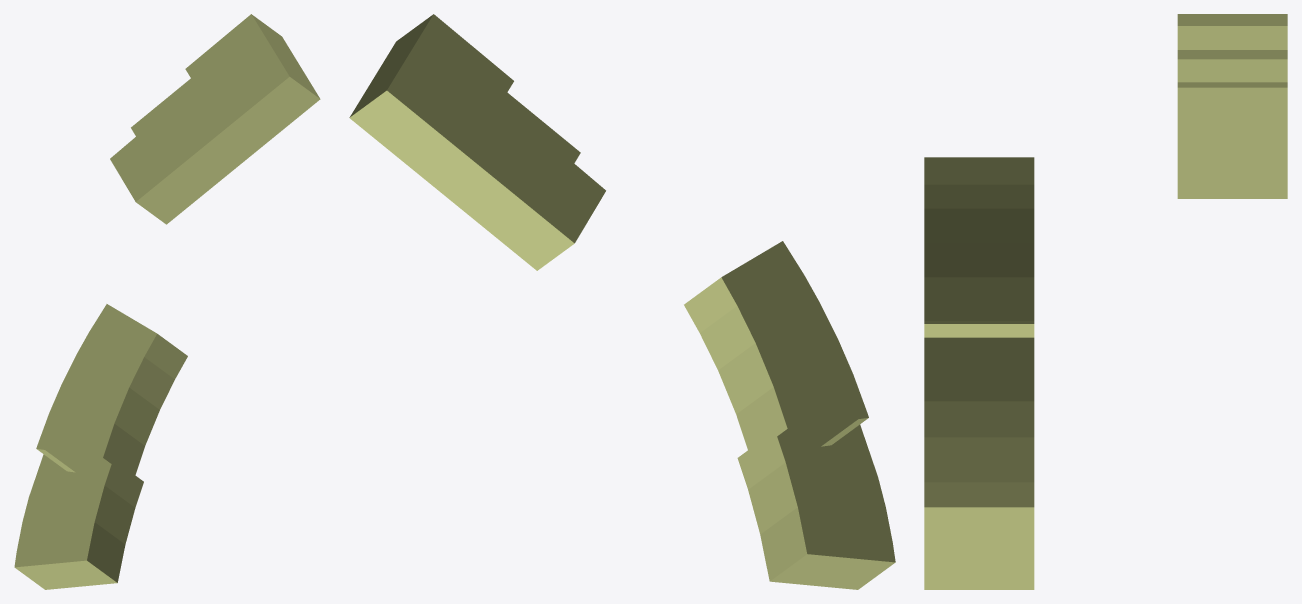
3 renders of one model, left to right at view 1: azimuth 30°, elevation 25°; view 2: azimuth 150°, elevation 25°; view 3: azimuth 270°, elevation 25°, orthographic. The views are drawn at different scales.
Parts seen in each view (by area): view 1: 0_0_1_1_2_0_3_0; view 2: 0_0_1_1_2_0_3_0; view 3: 0_0_1_1_2_0_3_0.
Boxes of the visible parts, x1,y1,x2,y2 form: 0_0_1_1_2_0_3_0: [14, 14, 320, 589]; 0_0_1_1_2_0_3_0: [349, 14, 895, 589]; 0_0_1_1_2_0_3_0: [924, 14, 1287, 589].
Size of the model in its own units: 38.91 by 46.96 by 19.8.
